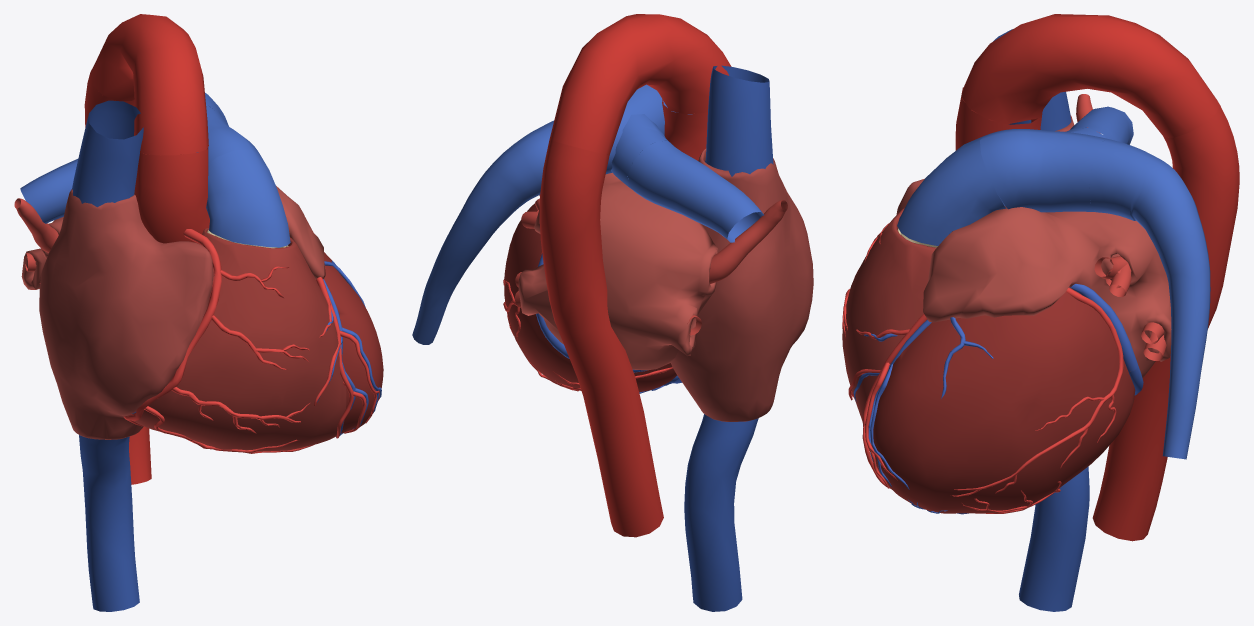
File: zanatomy-heart.glb
3 renders of one model, left to right at view 1: azimuth 30°, elevation 25°; view 2: azimuth 150°, elevation 25°; view 3: azimuth 270°, elevation 25°, orthographic. The views are drawn at different scales.
Parts seen in each view (by area): view 1: za_right_atrium_1, za_right_ventricle_1, za_aorta_1, za_ivc_1, za_pulmonary_trunk_3, za_aorta_2, za_svc_1, za_coronary_4, za_left_ventricle_1, za_left_atrium_1, za_pulmonary_trunk_4, za_coronary_1 (+4 smaller); view 2: za_aorta_3, za_right_atrium_1, za_left_atrium_1, za_aorta_1, za_ivc_1, za_pulmonary_trunk_2, za_pulmonary_trunk_4, za_svc_1, za_left_ventricle_1, za_pulmonary_trunk_1, za_pulmonary_vein_4, za_aorta_2; view 3: za_left_ventricle_1, za_left_atrium_1, za_aorta_1, za_aorta_3, za_pulmonary_trunk_2, za_right_ventricle_1, za_pulmonary_trunk_1, za_ivc_1, za_pulmonary_trunk_3, za_cardiac_vein_2, za_coronary_2, za_coronary_1 (+5 smaller).
Boxes of the visible parts, bbox=[...] form: za_right_atrium_1: bbox=[39, 189, 213, 439]; za_right_ventricle_1: bbox=[127, 228, 346, 451]; za_aorta_1: bbox=[90, 14, 208, 155]; za_ivc_1: bbox=[79, 412, 139, 611]; za_pulmonary_trunk_3: bbox=[206, 149, 290, 247]; za_aorta_2: bbox=[134, 147, 209, 243]; za_svc_1: bbox=[72, 100, 143, 207]; za_coronary_4: bbox=[123, 229, 314, 453]; za_left_ventricle_1: bbox=[324, 252, 383, 433]; za_left_atrium_1: bbox=[21, 186, 325, 289]; za_pulmonary_trunk_4: bbox=[20, 159, 78, 223]; za_coronary_1: bbox=[314, 277, 379, 438]; za_aorta_3: bbox=[539, 139, 663, 537]; za_right_atrium_1: bbox=[671, 148, 813, 421]; za_left_atrium_1: bbox=[518, 172, 718, 370]; za_aorta_1: bbox=[549, 14, 731, 154]; za_ivc_1: bbox=[684, 414, 758, 611]; za_pulmonary_trunk_2: bbox=[412, 120, 554, 344]; za_pulmonary_trunk_4: bbox=[628, 140, 763, 242]; za_svc_1: bbox=[705, 65, 773, 176]; za_left_ventricle_1: bbox=[504, 203, 677, 392]; za_pulmonary_trunk_1: bbox=[605, 84, 675, 188]; za_pulmonary_vein_4: bbox=[709, 200, 787, 283]; za_aorta_2: bbox=[662, 99, 707, 160]; za_left_ventricle_1: bbox=[871, 287, 1135, 513]; za_left_atrium_1: bbox=[923, 206, 1171, 377]; za_aorta_1: bbox=[961, 14, 1220, 137]; za_aorta_3: bbox=[1092, 105, 1239, 541]; za_pulmonary_trunk_2: bbox=[1089, 139, 1210, 459]; za_right_ventricle_1: bbox=[842, 207, 936, 421]; za_pulmonary_trunk_1: bbox=[980, 127, 1108, 212]; za_ivc_1: bbox=[1019, 466, 1089, 611]; za_pulmonary_trunk_3: bbox=[897, 136, 1006, 245]; za_cardiac_vein_2: bbox=[853, 284, 1137, 489]; za_coronary_2: bbox=[952, 288, 1123, 496]; za_coronary_1: bbox=[848, 314, 927, 488].
Bounding box in the file's own units: 0.135 × 0.2264 × 0.1307.
